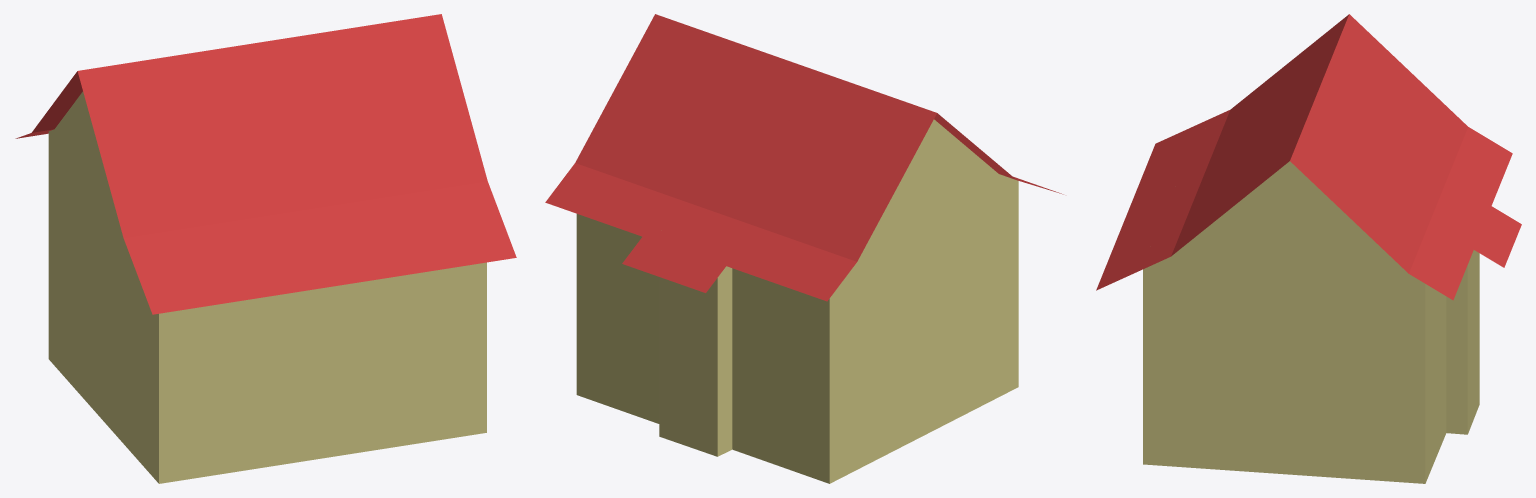
3 views of the same model, side by side, from view 1: azimuth 30°, elevation 25°; view 2: azimuth 150°, elevation 25°; view 3: azimuth 270°, elevation 25° (orthographic). The views are drawn at different scales.
Size of the model in its own units: 17.13 by 17.83 by 14.74.
